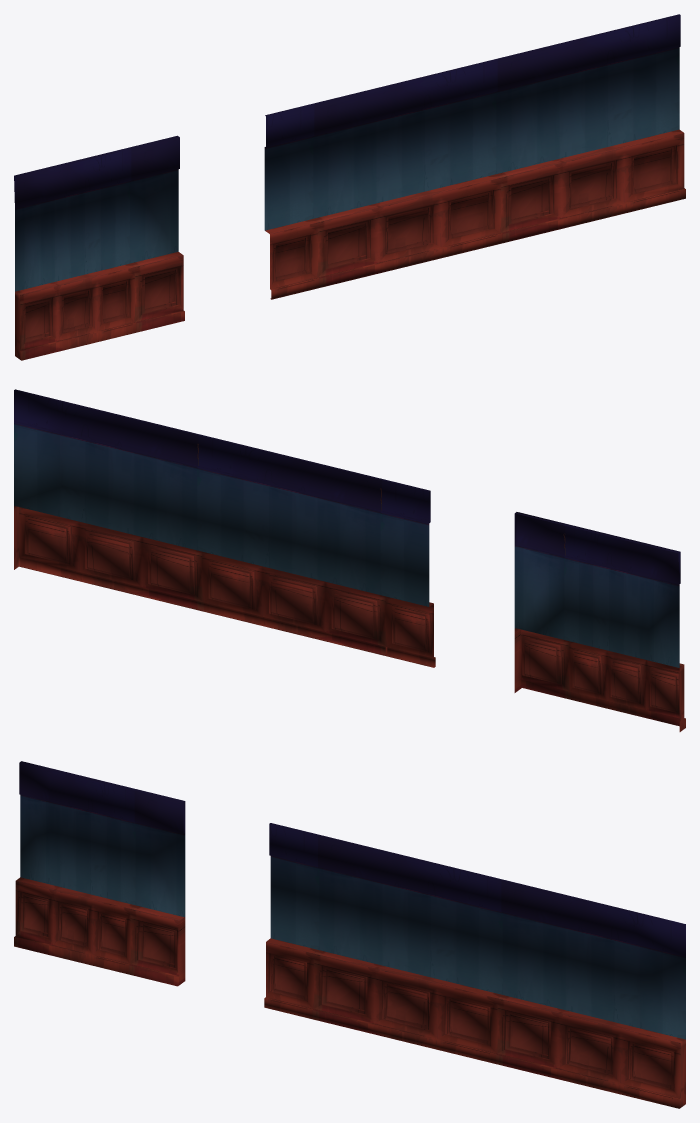
File: ParedeCortada.fbx
3 renders of one model, top to bottom at view 1: azimuth 30°, elevation 25°; view 2: azimuth 150°, elevation 25°; view 3: azimuth 330°, elevation 25°, orthographic.
Visible parts, largest first — view 1: ParedePequena.001; view 2: ParedePequena.001; view 3: ParedePequena.001.
Boxes of the visible parts, x1,y1,x2,y2 form: ParedePequena.001: (14,14,685,360); ParedePequena.001: (14,389,685,731); ParedePequena.001: (14,761,685,1108).
Bounding box in the file's own units: 1219 × 23.61 × 315.
